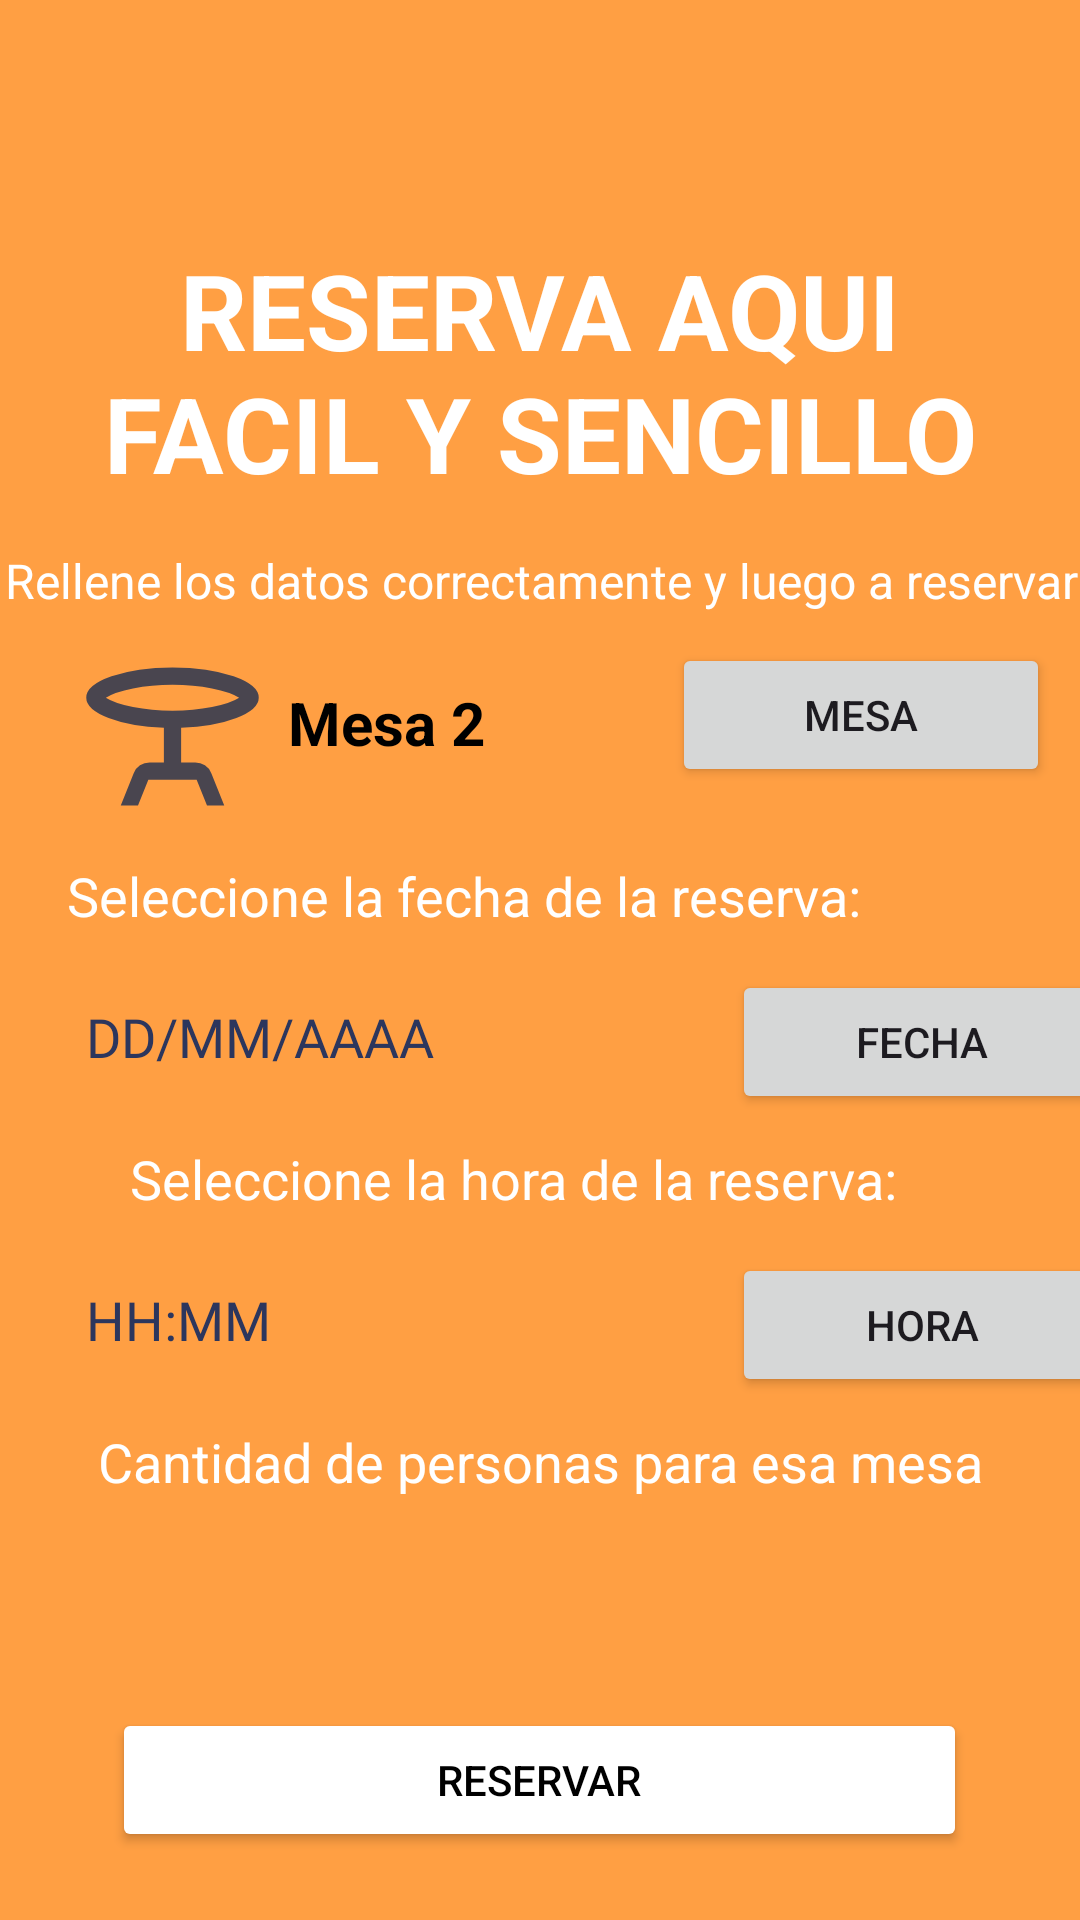

Named icons in this screenshot (1080w x 1920h) and their bounding boxes, (x1, y1, x2, y2):
table bar: (86, 667, 259, 806)
